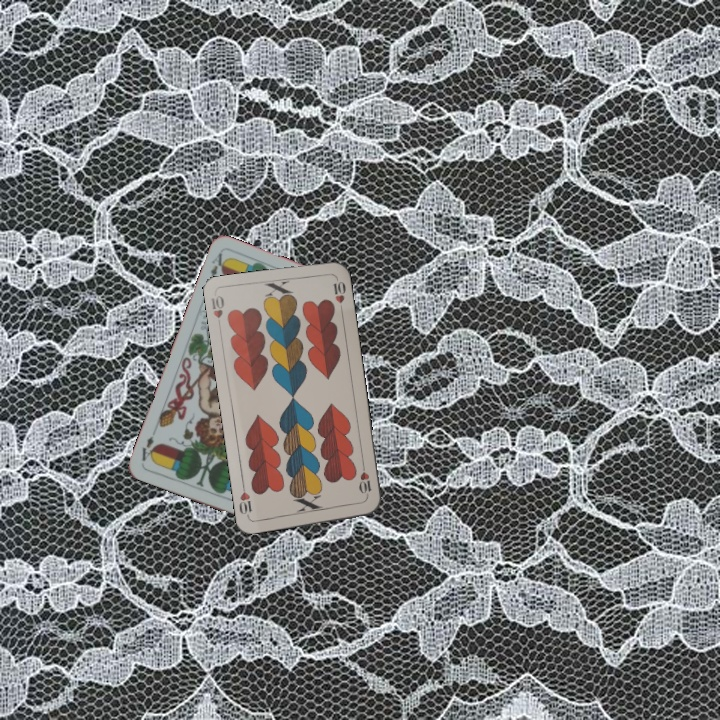EA: (206, 249, 229, 279)
H10: (355, 461, 374, 501), (207, 291, 227, 321)
